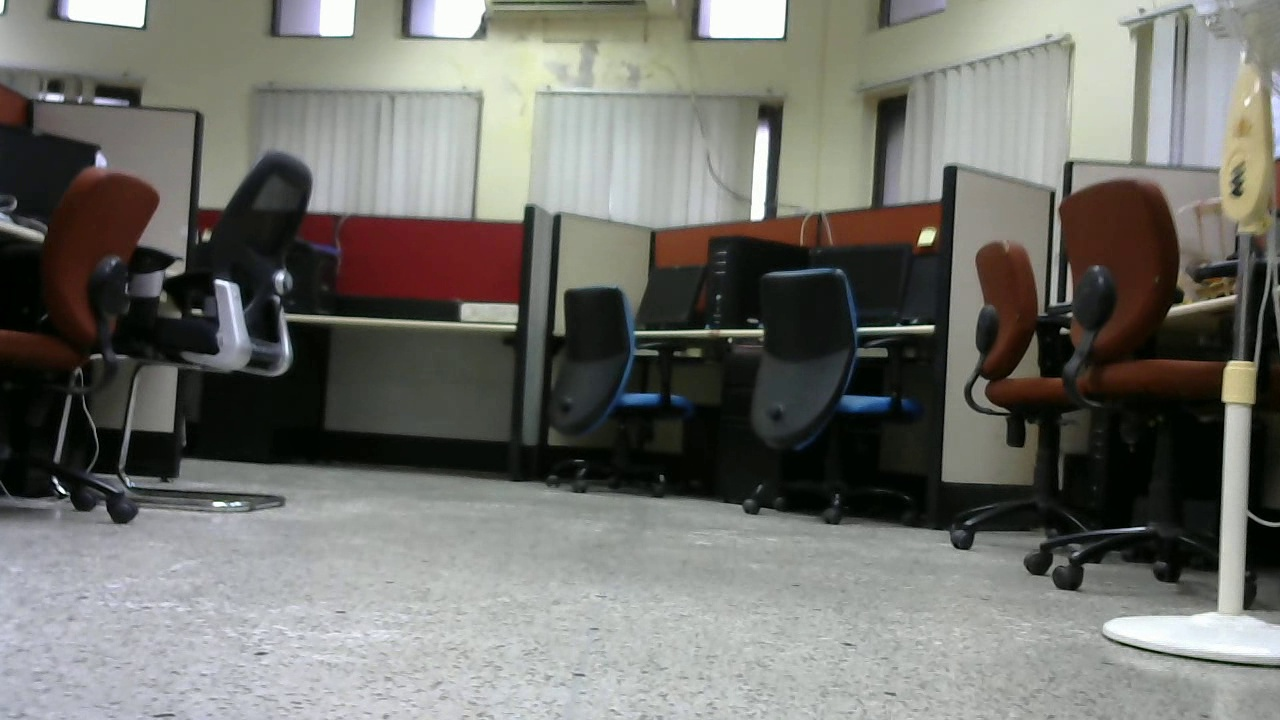chair: (1036, 177, 1279, 592), (151, 144, 330, 508), (949, 241, 1131, 556), (8, 173, 170, 517), (726, 261, 927, 529), (526, 285, 707, 501)
